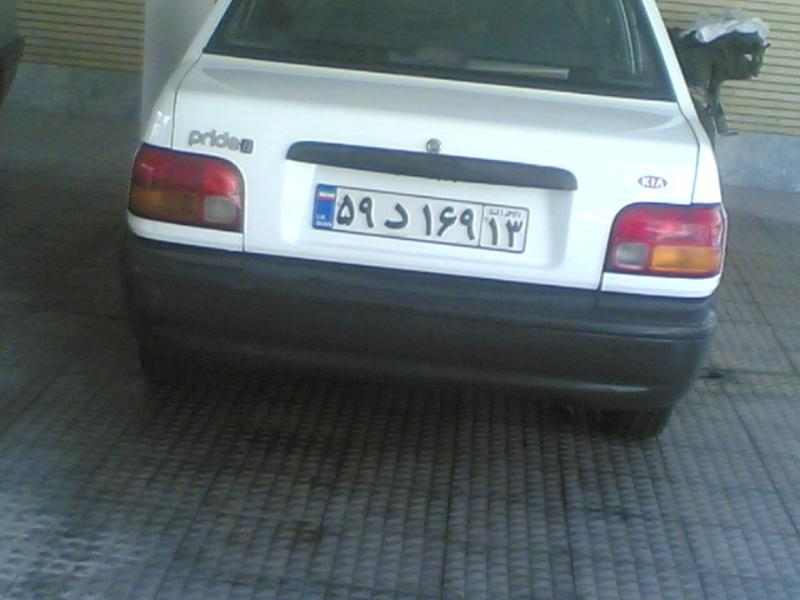Plate: (313, 182, 531, 260)
